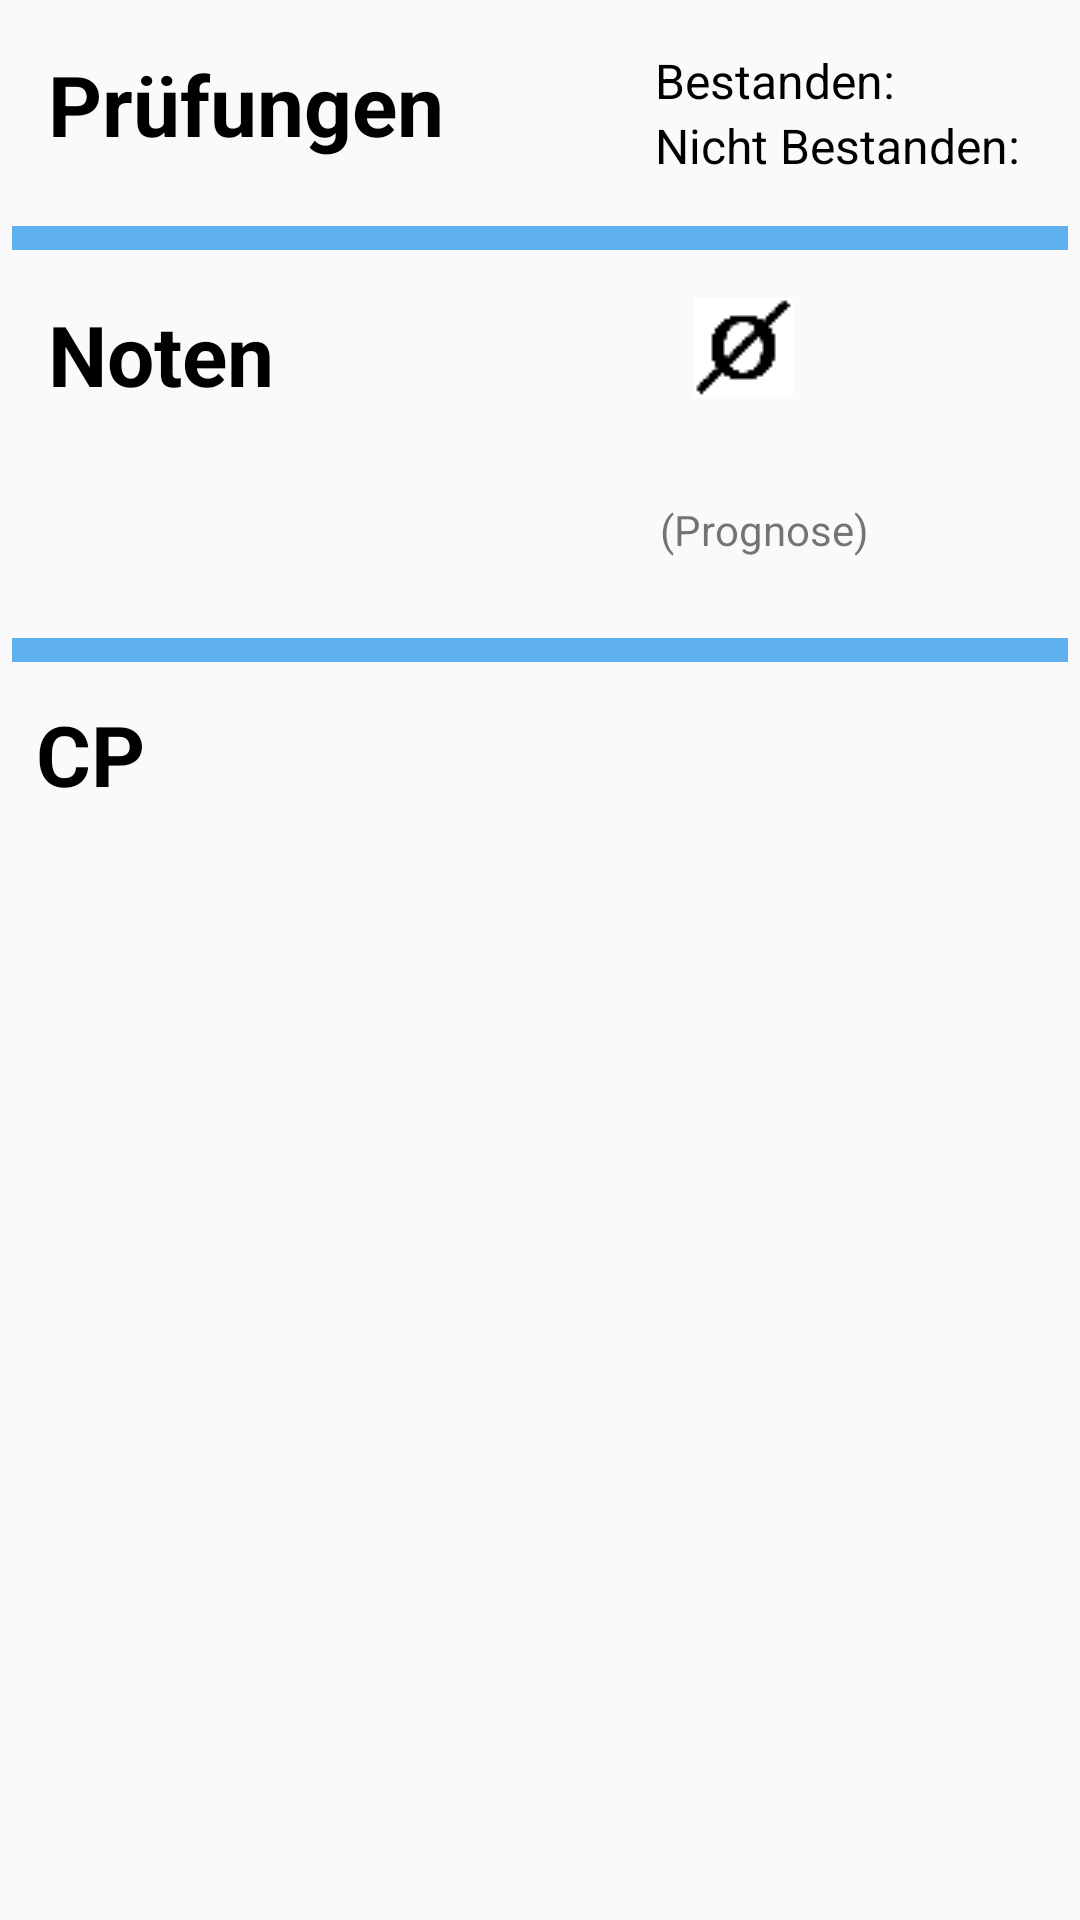

Icon click points for this 1080 × 1920 phone screenshot, format (x,y):
average: (743,347)
